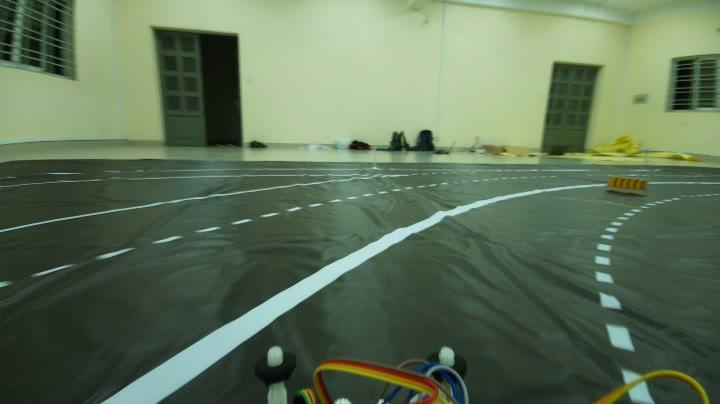roadblock: (604, 169, 652, 199)
